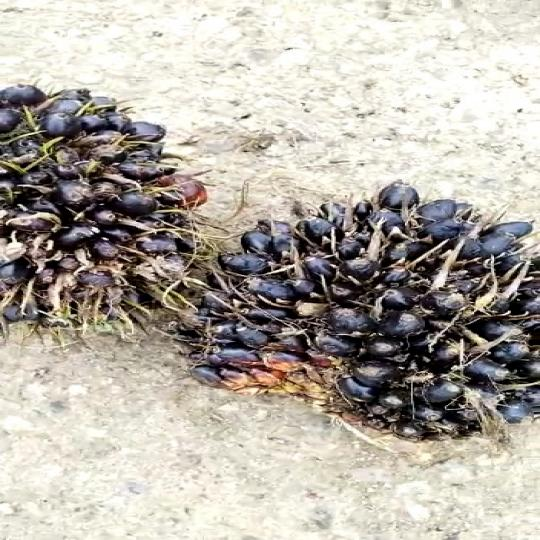mentah: (194, 178, 540, 465), (0, 62, 238, 342)
